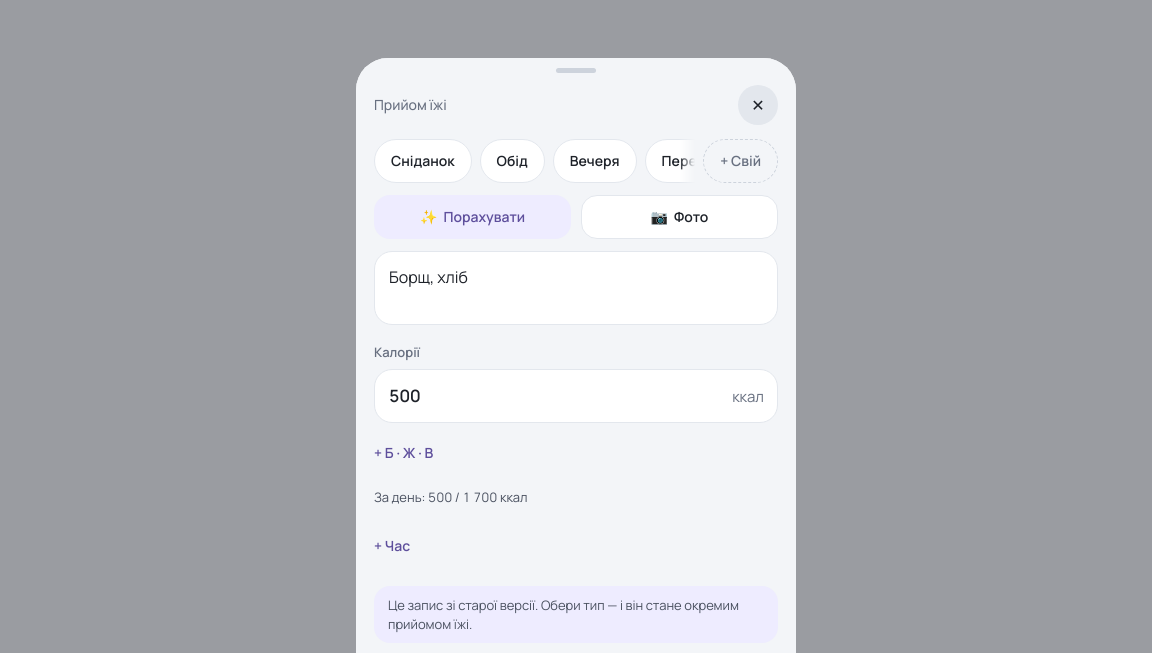
it: MealEditorBody: the layout › the legacy block asks for a type
Expected: the text "Це запис зі старої версії. Обери тип — і він стане окремим прийомом їжі." is shown, [374, 586, 778, 644]
Click the button "Обід".
click(512, 161)  # box [480, 139, 545, 183]
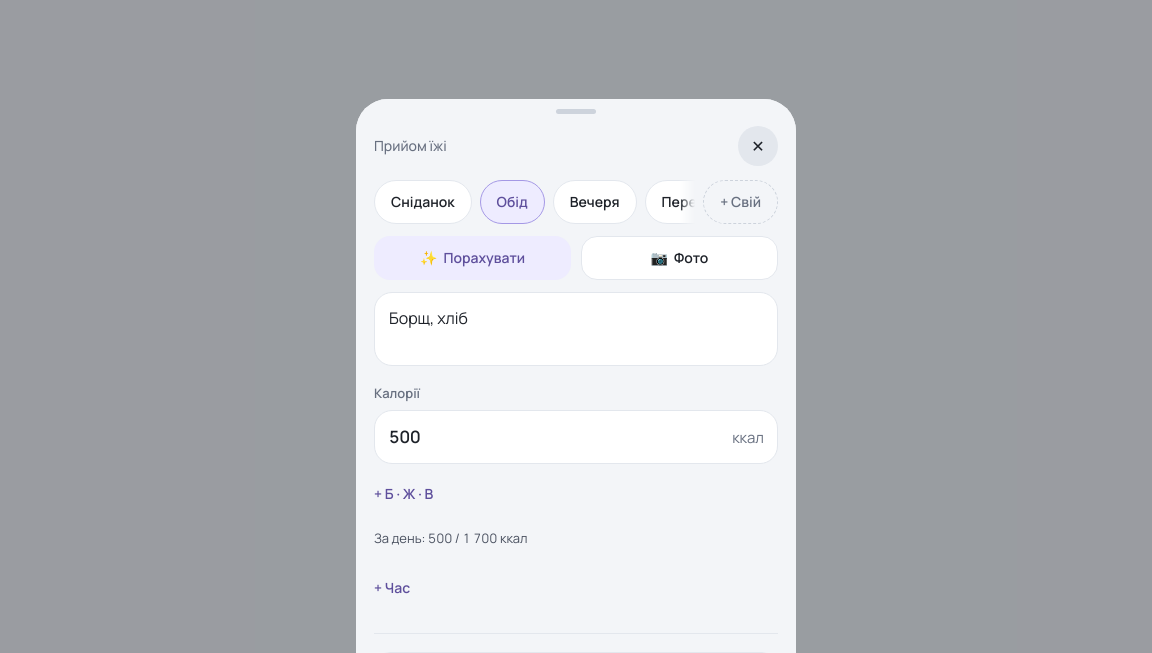
Expected: the text "Це запис зі старої версії" is gone
